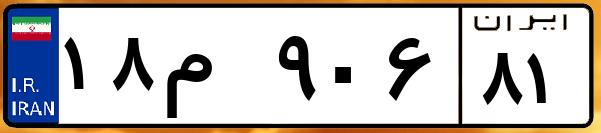0: (330, 28, 385, 110)
1: (57, 26, 110, 100), (525, 38, 570, 115)
6: (385, 28, 445, 110)
8: (475, 38, 525, 113), (110, 28, 158, 98)
9: (270, 28, 330, 110)
م: (158, 20, 270, 120)
